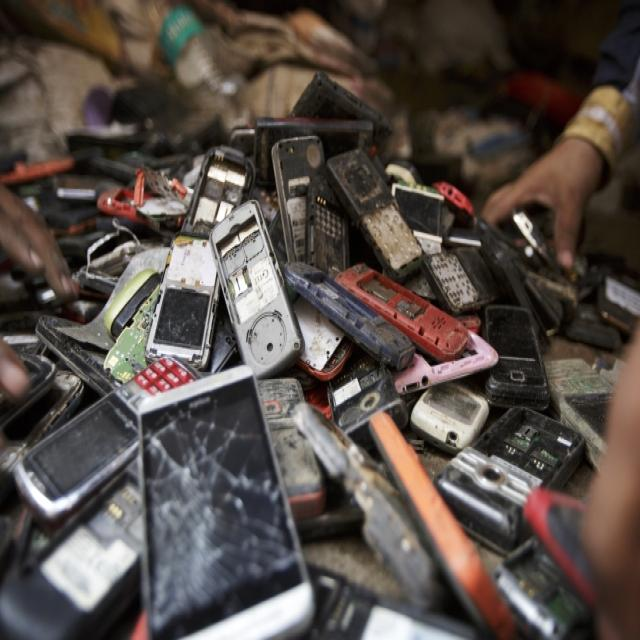Hazard: (32, 89, 640, 640)
